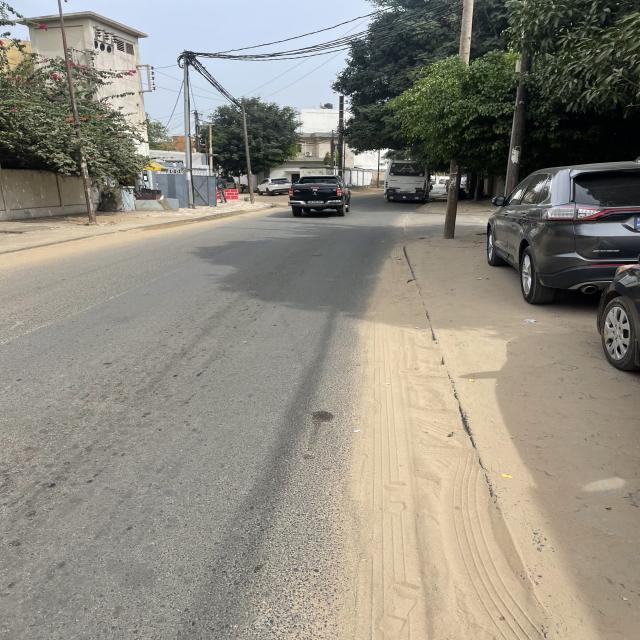bus tata: (384, 161, 431, 202)
particulier: (488, 162, 640, 305), (598, 266, 640, 371), (289, 176, 353, 217), (258, 179, 291, 196)
